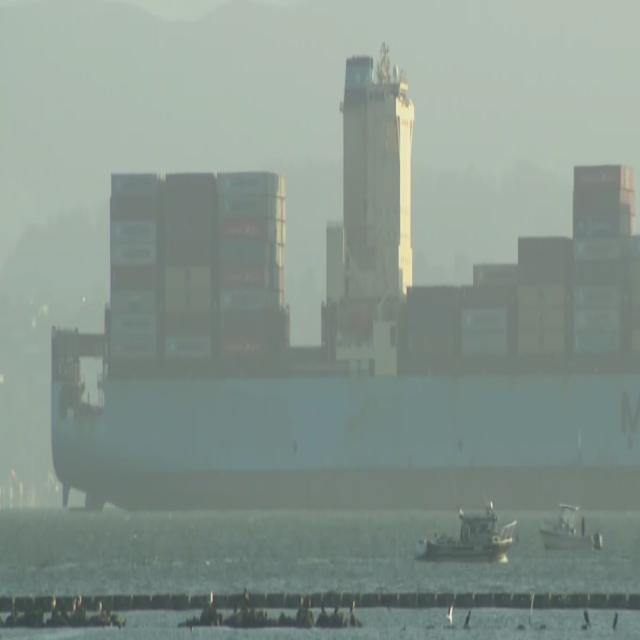cargoship: (46, 42, 640, 496)
houseboat: (416, 499, 520, 567), (536, 494, 606, 559)
